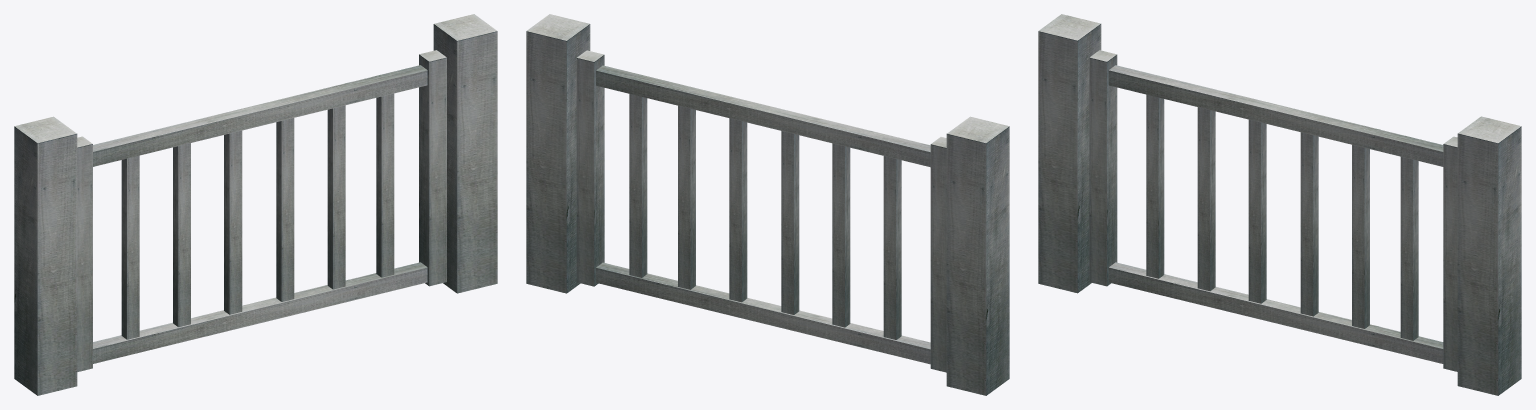
Rendered from Hedge_01_door.fbx.
The picture shows the model from 3 angles, left to right: view 1: azimuth 30°, elevation 25°; view 2: azimuth 150°, elevation 25°; view 3: azimuth 330°, elevation 25°; orthographic projection.
Visible parts, largest first — view 1: skp11BD1; view 2: skp11BD1; view 3: skp11BD1.
Part boxes in pixels (left/top/right/bottom): skp11BD1: left=14, top=14, right=497, bottom=395; skp11BD1: left=526, top=14, right=1009, bottom=395; skp11BD1: left=1038, top=14, right=1521, bottom=395.
Bounding box in the file's own units: 200 × 105 × 17.62.
